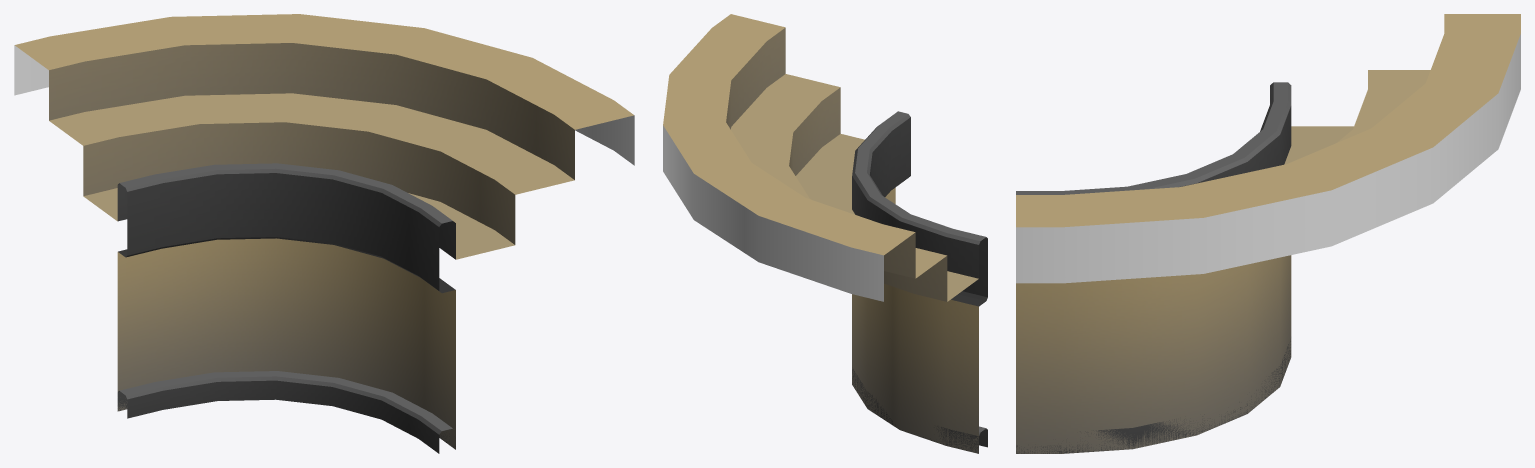
File: Corner.fbx
The picture shows the model from 3 angles, left to right: view 1: azimuth 30°, elevation 25°; view 2: azimuth 150°, elevation 25°; view 3: azimuth 270°, elevation 25°; orthographic projection. The views are drawn at different scales.
Visible parts, largest first — view 1: Cube.011; view 2: Cube.011; view 3: Cube.011.
Part boxes in pixels (box(x1,y1,x2,y2)): Cube.011: box(14, 14, 634, 453); Cube.011: box(663, 14, 987, 453); Cube.011: box(1016, 14, 1520, 453).
Size of the model in its own units: 1100 by 778 by 1100.
